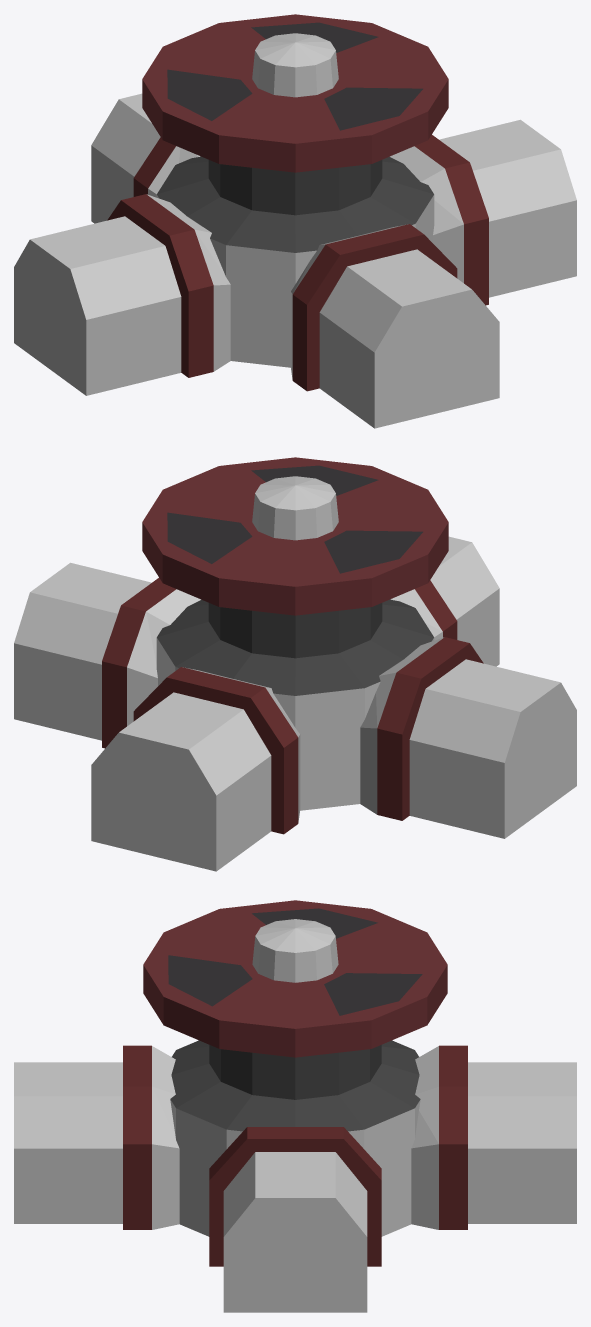
The model's file is vce_valve_deep_off.obj.
The picture shows the model from 3 angles, top to bottom: view 1: azimuth 30°, elevation 25°; view 2: azimuth 150°, elevation 25°; view 3: azimuth 270°, elevation 25°; orthographic projection.
Size of the model in its own units: 0.98 by 0.51 by 0.98.
